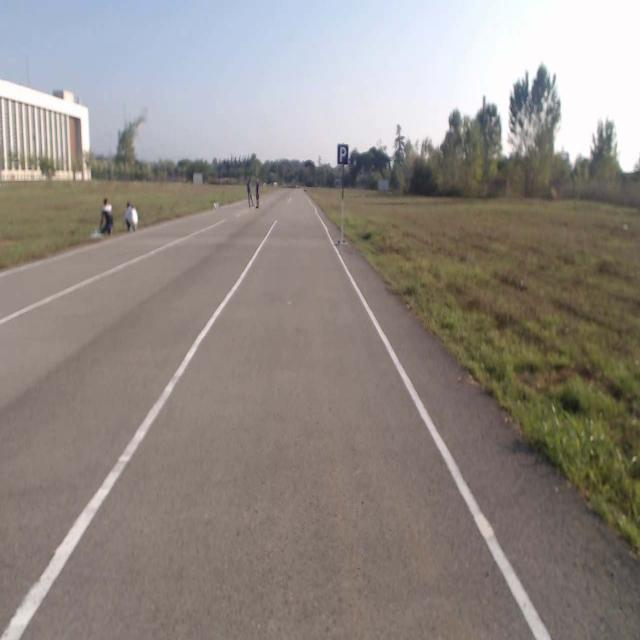park: (338, 144, 348, 164)
